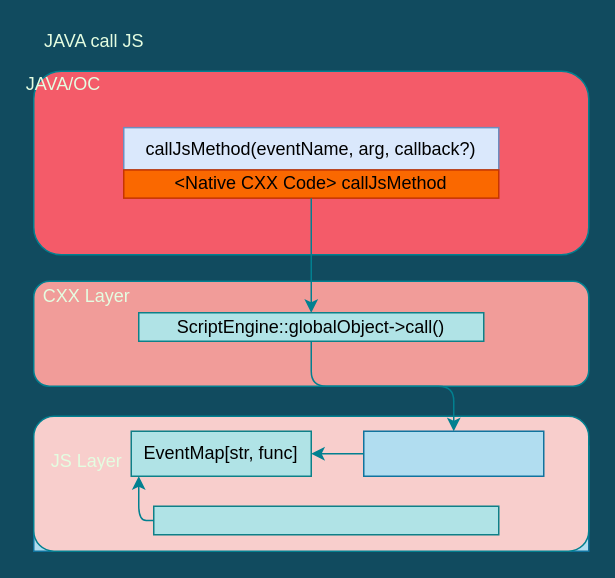
This 615x578 diagram has some shape labels left out. Each missing label, with the centre of its shape:
"global eventName(args)=>array" goes at [325,520].
"TriggerEvent" goes at [453,453].
